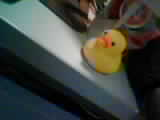duck: (84, 21, 125, 71)
